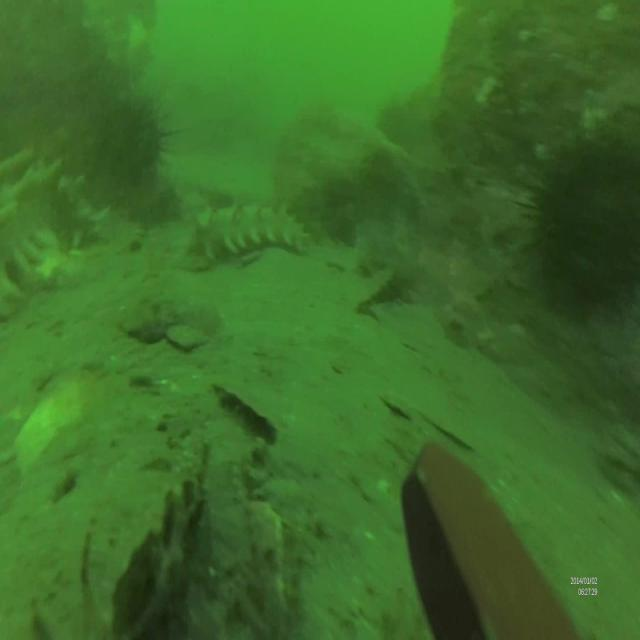echinus: (520, 133, 640, 328), (117, 94, 184, 174)
holothurian: (2, 146, 112, 322), (184, 199, 307, 267)
